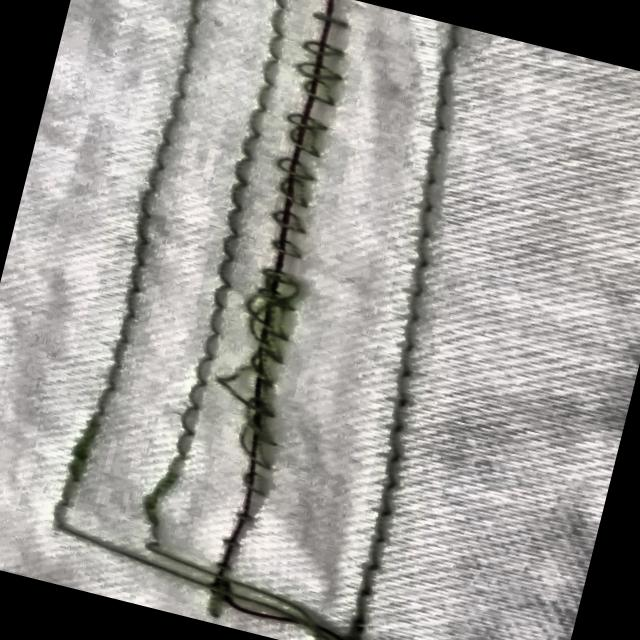Stitch: (240, 0, 384, 262), (189, 248, 327, 502)
